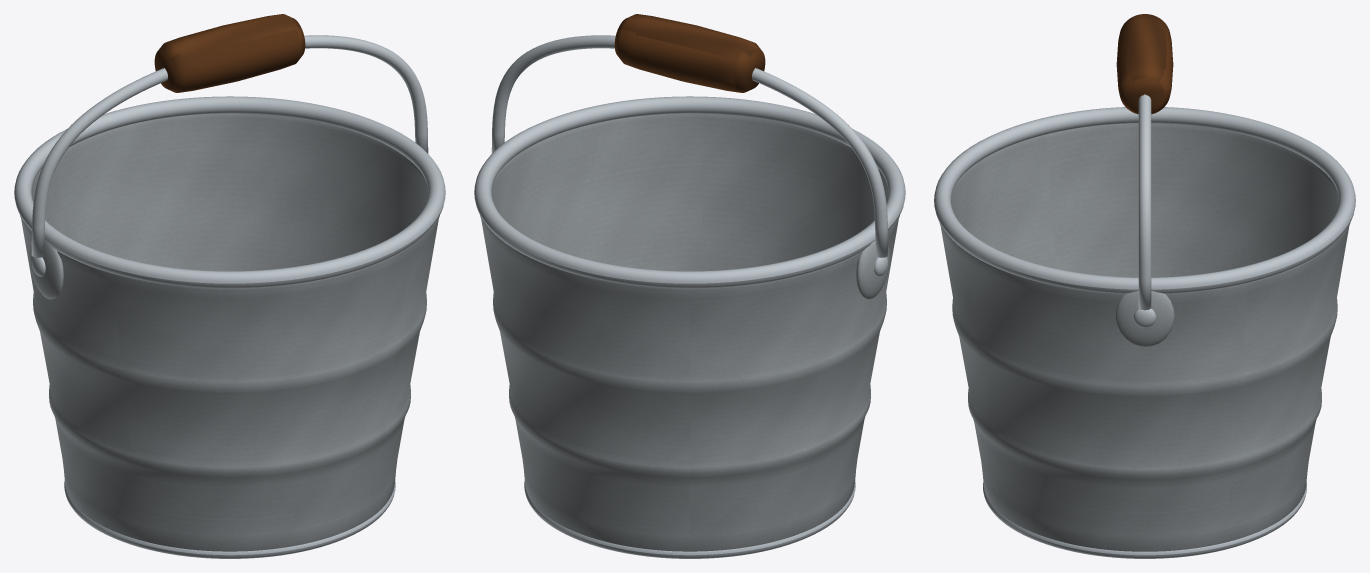
Rendered from Bucket.glb.
3 views of the same model, side by side, from view 1: azimuth 30°, elevation 25°; view 2: azimuth 150°, elevation 25°; view 3: azimuth 270°, elevation 25° (orthographic). The views are drawn at different scales.
Visible parts, largest first — view 1: Equipment.Bucket; view 2: Equipment.Bucket; view 3: Equipment.Bucket.
Part boxes in pixels (left/top/right/bottom): Equipment.Bucket: left=14, top=14, right=445, bottom=558; Equipment.Bucket: left=474, top=14, right=905, bottom=558; Equipment.Bucket: left=934, top=14, right=1355, bottom=558.
Bounding box in the file's own units: 0.315 × 0.355 × 0.298.
3 materials, 2 textured.
